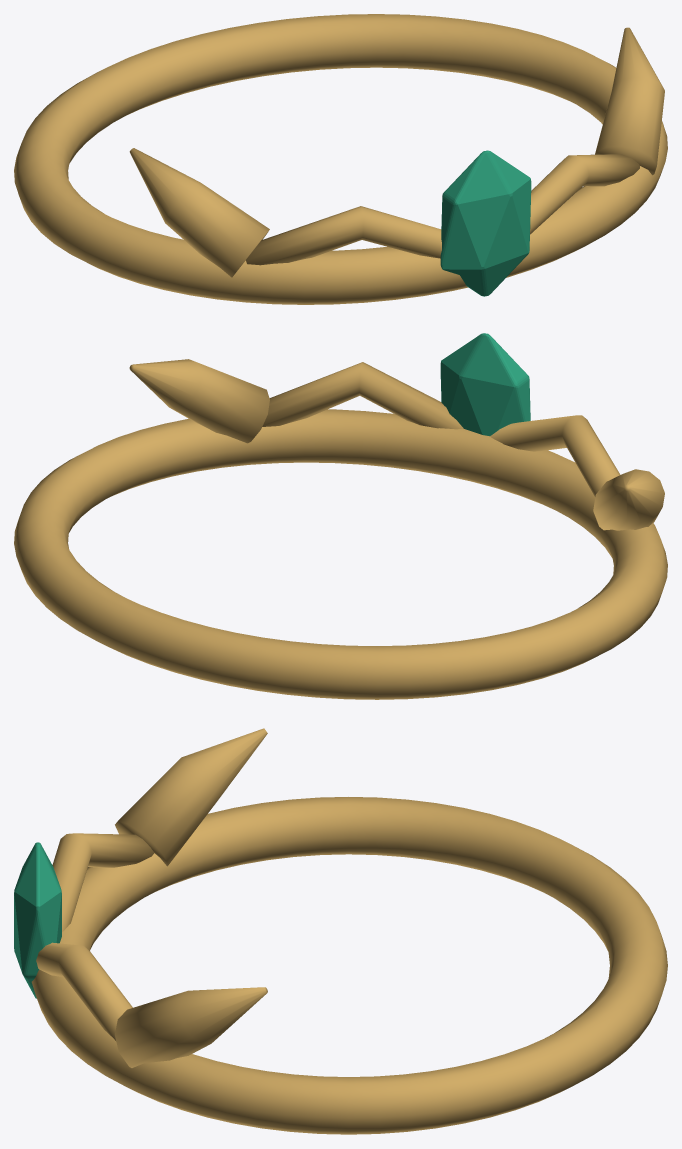
The model's file is circlet.glb.
3 views of the same model, one above another, from view 1: azimuth 30°, elevation 25°; view 2: azimuth 150°, elevation 25°; view 3: azimuth 270°, elevation 25° (orthographic). The views are drawn at different scales.
Parts seen in each view (by area): view 1: Open brass circlet, Inset emerald, Swept brow ornament, Leaf-shaped side wing, Leaf-shaped side wing.001; view 2: Open brass circlet, Swept brow ornament, Inset emerald, Leaf-shaped side wing.001, Leaf-shaped side wing; view 3: Open brass circlet, Swept brow ornament, Leaf-shaped side wing, Leaf-shaped side wing.001, Inset emerald.
Part boxes in pixels (x1=…): Open brass circlet: x1=14, y1=14, x2=667, y2=304; Inset emerald: x1=440, y1=150, x2=531, y2=296; Swept brow ornament: x1=246, y1=154, x2=639, y2=265; Leaf-shaped side wing: x1=129, y1=148, x2=269, y2=277; Leaf-shaped side wing.001: x1=595, y1=27, x2=664, y2=175; Open brass circlet: x1=14, y1=409, x2=667, y2=699; Swept brow ornament: x1=262, y1=362, x2=620, y2=496; Inset emerald: x1=440, y1=333, x2=530, y2=436; Leaf-shaped side wing.001: x1=129, y1=359, x2=269, y2=443; Leaf-shaped side wing: x1=593, y1=469, x2=664, y2=530; Open brass circlet: x1=31, y1=797, x2=667, y2=1134; Swept brow ornament: x1=36, y1=833, x2=154, y2=1040; Leaf-shaped side wing: x1=115, y1=728, x2=267, y2=866; Leaf-shaped side wing.001: x1=115, y1=987, x2=267, y2=1067; Inset emerald: x1=14, y1=842, x2=61, y2=998.
Size of the model in its own units: 0.87 by 0.2065 by 0.7889.
